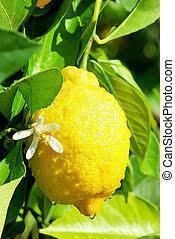lemon: (26, 66, 130, 217)
